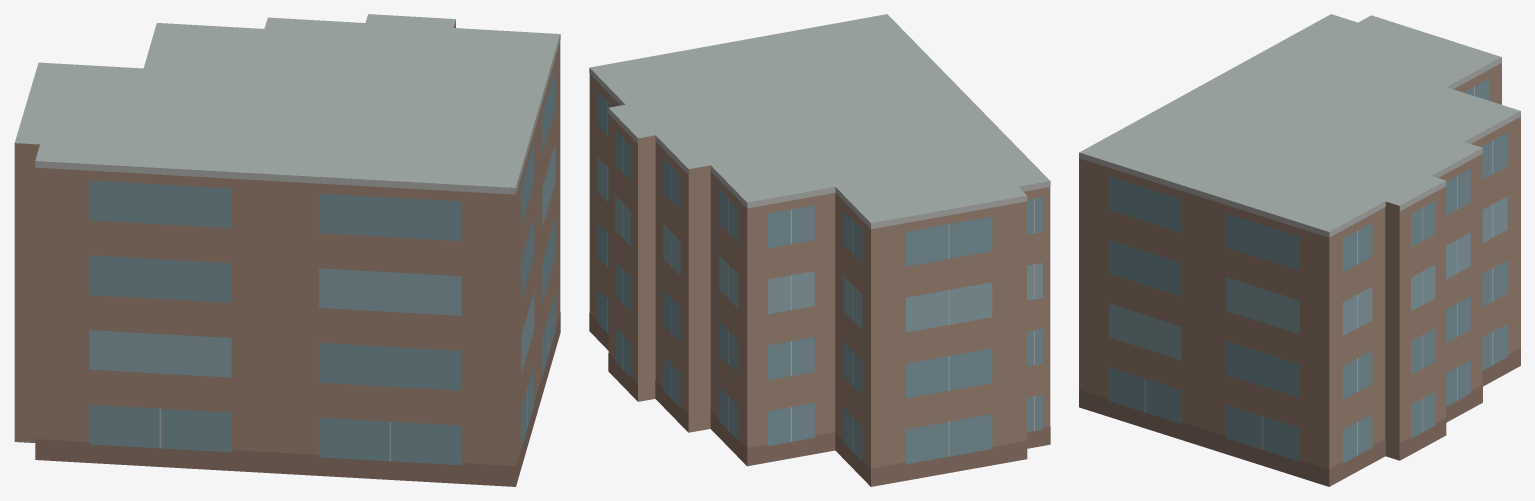
Rendered from survey-upis-32967586.glb.
3 renders of one model, left to right at view 1: azimuth 30°, elevation 25°; view 2: azimuth 150°, elevation 25°; view 3: azimuth 270°, elevation 25°, orthographic. The views are drawn at different scales.
Visible parts, largest first — view 1: survey-upis-32967586.tmp; view 2: survey-upis-32967586.tmp; view 3: survey-upis-32967586.tmp.
Boxes of the visible parts, x1=… form: survey-upis-32967586.tmp: x1=14, y1=14, x2=560, y2=486; survey-upis-32967586.tmp: x1=589, y1=14, x2=1050, y2=486; survey-upis-32967586.tmp: x1=1079, y1=14, x2=1520, y2=486.
Bounding box in the file's own units: 20.1 × 10.95 × 17.21.
